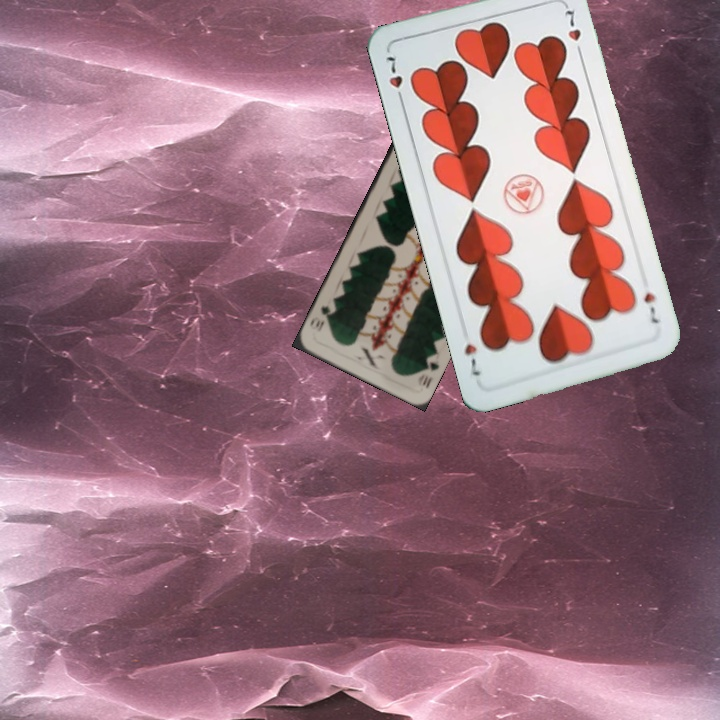G10: (414, 351, 442, 391)
H7: (382, 50, 407, 107), (640, 288, 661, 326)
